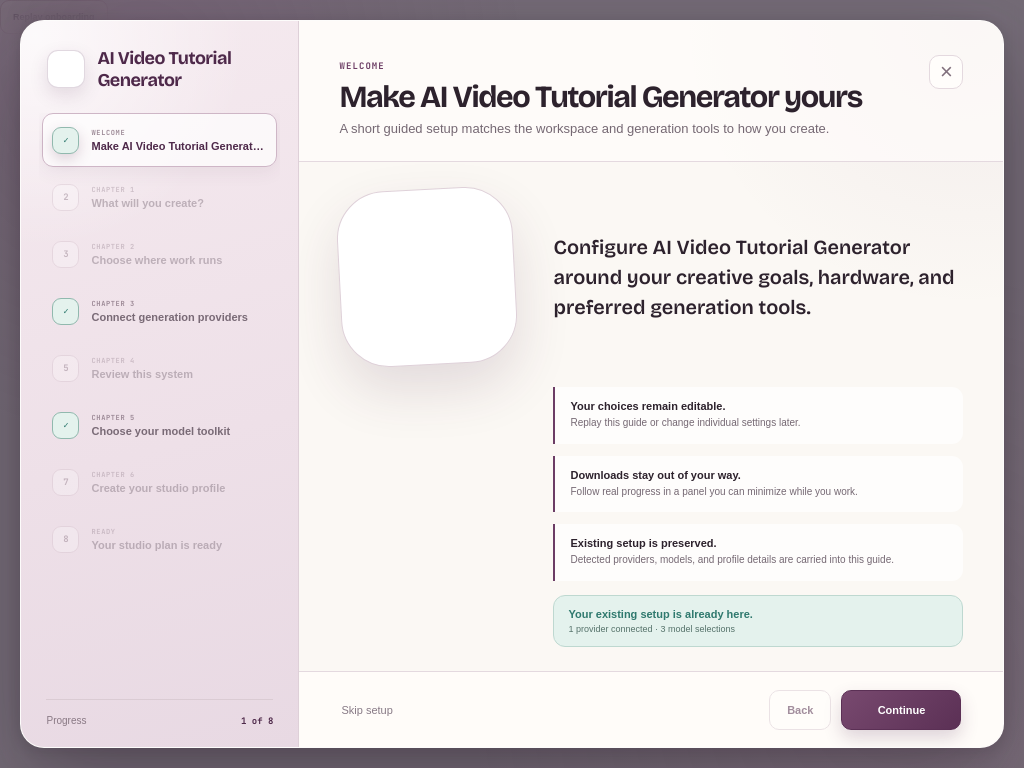
it: OnboardingDialog › keeps saved model choices separate from installed models and download estimates
Check: the text "1 provider connected · 3 model selections" is shown, box [568, 624, 735, 634]
What coordinates should you click on to do the following:
click the button "✓ Chapter 5 Choose your model toolkit"
I would click on:
 (160, 426)
Its box is [42, 398, 278, 452].
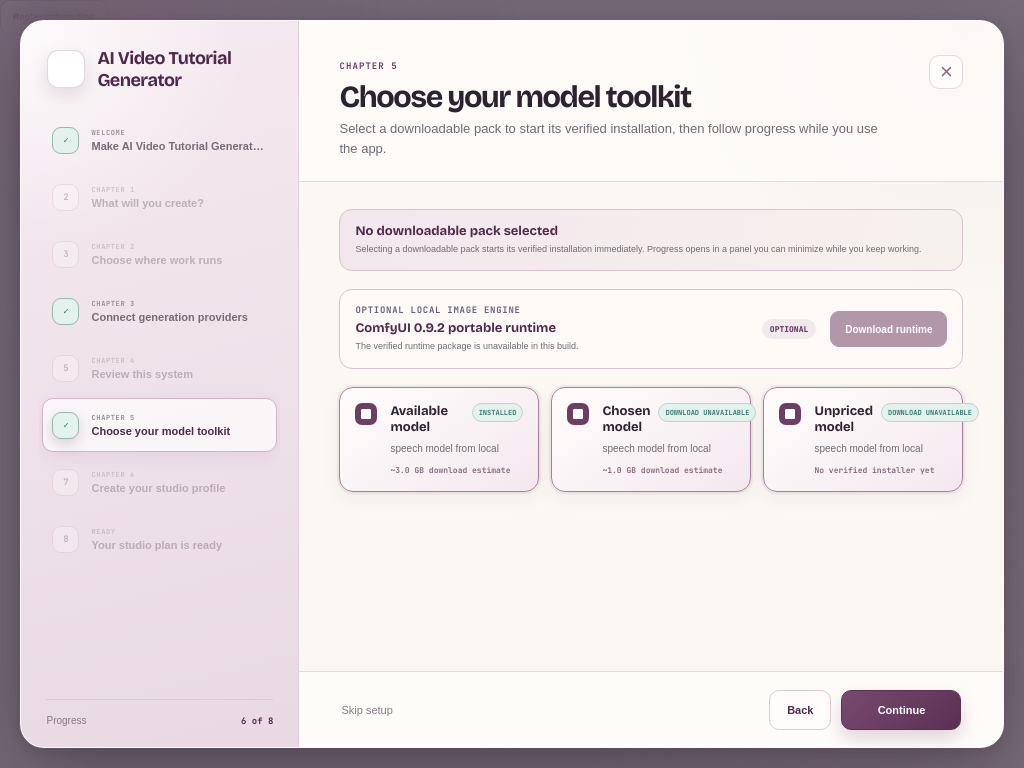
Check: the checkbox labelled "Chosen model" is checked, box [552, 387, 752, 492]
Check: the checkbox labelled "Chosen model" is disabled, box [552, 387, 752, 492]
Check: the checkbox labelled "Unpriced model" is disabled, box [764, 387, 964, 492]
